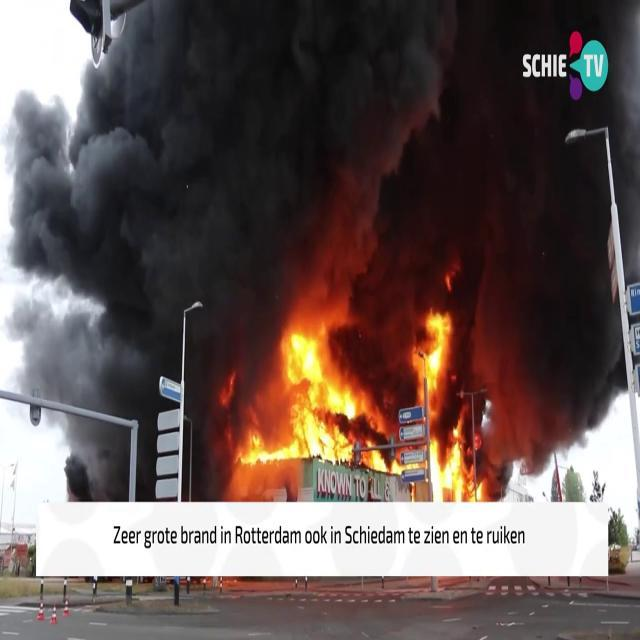Fire: (222, 292, 504, 494)
Smoke: (0, 0, 640, 366)
